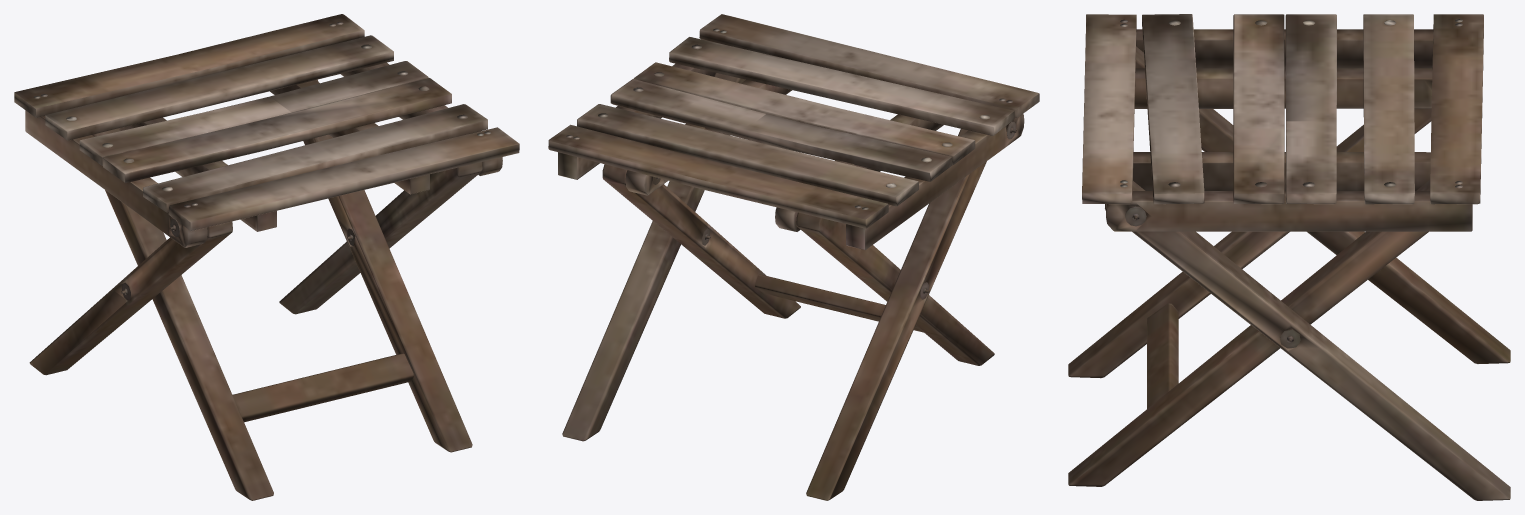
The model's file is ph-folding-wooden-stool.lod1.glb.
The picture shows the model from 3 angles, left to right: view 1: azimuth 30°, elevation 25°; view 2: azimuth 150°, elevation 25°; view 3: azimuth 270°, elevation 25°; orthographic projection. The views are drawn at different scales.
Parts seen in each view (by area): view 1: folding_wooden_stool; view 2: folding_wooden_stool; view 3: folding_wooden_stool.
Boxes of the visible parts, x1,y1,x2,y2 form: folding_wooden_stool: [14, 14, 519, 500]; folding_wooden_stool: [548, 14, 1039, 500]; folding_wooden_stool: [1068, 14, 1510, 500].
Bounding box in the file's own units: 0.527 × 0.442 × 0.5471.
Materials: 1 (1 with a texture image).
